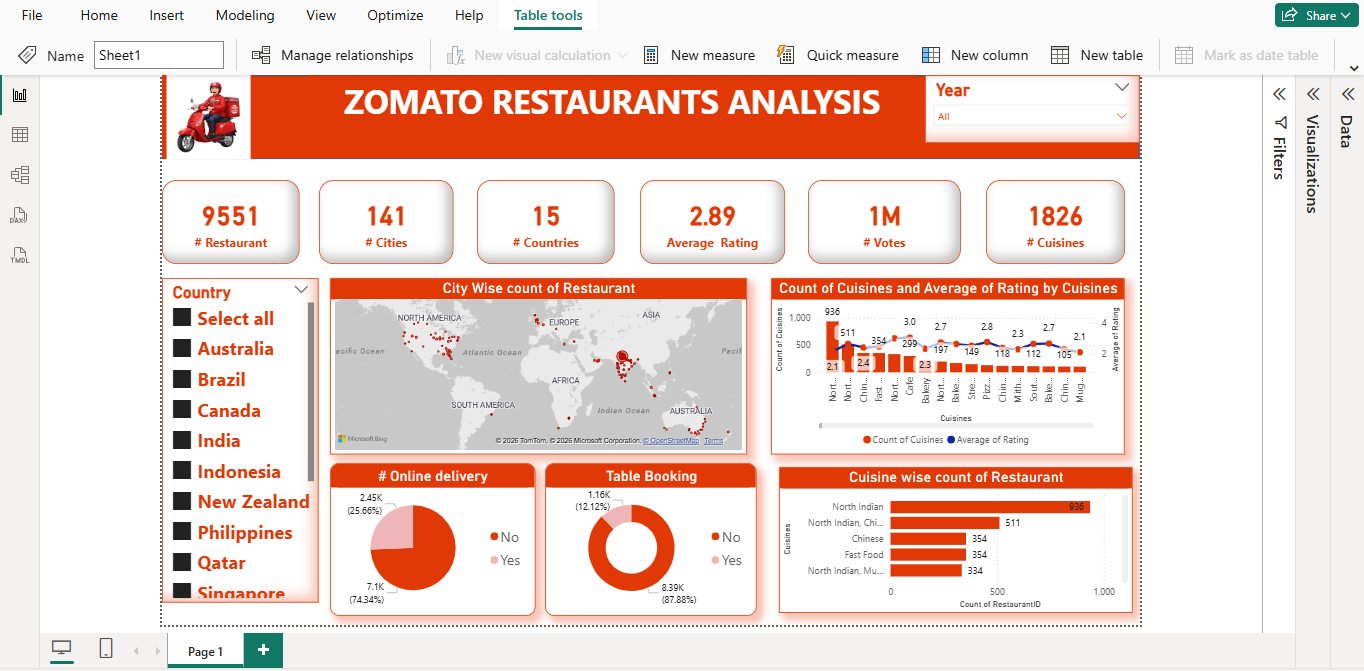

Layout of this report page (visuals, bound fields, positions):
{"tool":"powerbi","page":{"name":"Page 1","canvas":[1280,720],"ordinal":0},"visuals":[{"type":"shape","box":[0,0,1280,110.1],"z":0},{"type":"image","box":[0,0,122.9,110],"z":1000},{"type":"textbox","box":[191.4,0,795.7,88.6],"z":2000},{"type":"card","fields":{"Values":["CountNonNull(Sheet1.RestaurantID)"]},"box":[0,137.6,180.3,110.1],"z":3000},{"type":"card","fields":{"Values":["Count(Sheet1.City)"]},"box":[205.1,137.6,176.2,110.1],"z":4000},{"type":"card","fields":{"Values":["Count(Sheet1.CountryCode)"]},"box":[412.9,137.6,180.3,110.1],"z":5000},{"type":"card","fields":{"Values":["Avg(Sheet1.Rating)"]},"box":[626.2,137.6,189.9,110.1],"z":6000},{"type":"card","fields":{"Values":["Sum(Sheet1.Votes)"]},"box":[845.1,137.6,199.6,110.1],"z":7000},{"type":"card","fields":{"Values":["Count(Sheet1.Cuisines)"]},"box":[1079.1,137.6,181.7,110.1],"z":8000},{"type":"slicer","fields":{"Values":["countries.country name"]},"box":[0,265.6,205.1,425.3],"z":9000},{"type":"lineStackedColumnComboChart","title":"Count of Cuisines and Average of Rating by Cuisines","fields":{"Category":["Sheet1.Cuisines"],"Y2":["Avg(Sheet1.Rating)"],"Y":["CountNonNull(Sheet1.Cuisines)"]},"box":[797.1,265.7,462.9,231.4],"z":10000},{"type":"map","title":"City Wise count of Restaurant","fields":{"Category":["Sheet1.City"],"Size":["Sum(Sheet1.RestaurantID)"]},"box":[220,265.7,545.7,231.4],"z":11000},{"type":"clusteredBarChart","title":"Cuisine wise count of Restaurant","fields":{"Category":["Sheet1.Cuisines"],"Y":["CountNonNull(Sheet1.RestaurantID)"]},"box":[807.1,512.9,462.9,191.4],"z":12000},{"type":"pieChart","title":"# Online delivery","fields":{"Category":["Sheet1.Has_Online_delivery"],"Y":["CountNonNull(Sheet1.RestaurantID)"]},"box":[220,508.6,268.6,200],"z":13000},{"type":"donutChart","title":"Table Booking","fields":{"Category":["Sheet1.Has_Table_booking"],"Y":["CountNonNull(Sheet1.RestaurantID)"]},"box":[501.4,508.6,277.1,200],"z":14000},{"type":"slicer","fields":{"Values":["Table2.Datekey_Opening.Variation.Date Hierarchy.Year"]},"box":[998.6,0,281.4,88.6],"z":15000}]}

Visuals, with their boxes on the page's 1280x720 design canvas (x1, y1, x2, y2). These are canvas units, not pixel positions in the 1364x671 screenshot, which may show the page scaled, cropped or inside an application window:
shape: (x1=0, y1=0, x2=1280, y2=110)
image: (x1=0, y1=0, x2=123, y2=110)
textbox: (x1=191, y1=0, x2=987, y2=89)
card - CountNonNull(Sheet1.RestaurantID): (x1=0, y1=138, x2=180, y2=248)
card - Count(Sheet1.City): (x1=205, y1=138, x2=381, y2=248)
card - Count(Sheet1.CountryCode): (x1=413, y1=138, x2=593, y2=248)
card - Avg(Sheet1.Rating): (x1=626, y1=138, x2=816, y2=248)
card - Sum(Sheet1.Votes): (x1=845, y1=138, x2=1045, y2=248)
card - Count(Sheet1.Cuisines): (x1=1079, y1=138, x2=1261, y2=248)
slicer - countries.country name: (x1=0, y1=266, x2=205, y2=691)
"Count of Cuisines and Average of Rating by Cuisines" lineStackedColumnComboChart: (x1=797, y1=266, x2=1260, y2=497)
"City Wise count of Restaurant" map: (x1=220, y1=266, x2=766, y2=497)
"Cuisine wise count of Restaurant" clusteredBarChart: (x1=807, y1=513, x2=1270, y2=704)
"# Online delivery" pieChart: (x1=220, y1=509, x2=489, y2=709)
"Table Booking" donutChart: (x1=501, y1=509, x2=778, y2=709)
slicer - Table2.Datekey_Opening.Variation.Date Hierarchy.Year: (x1=999, y1=0, x2=1280, y2=89)
